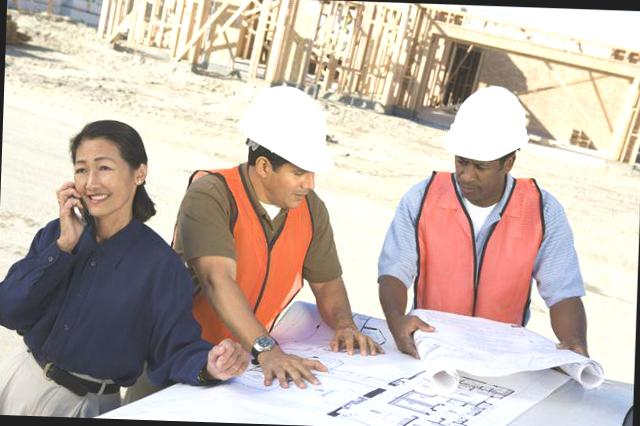no_helmet: (61, 111, 152, 225)
